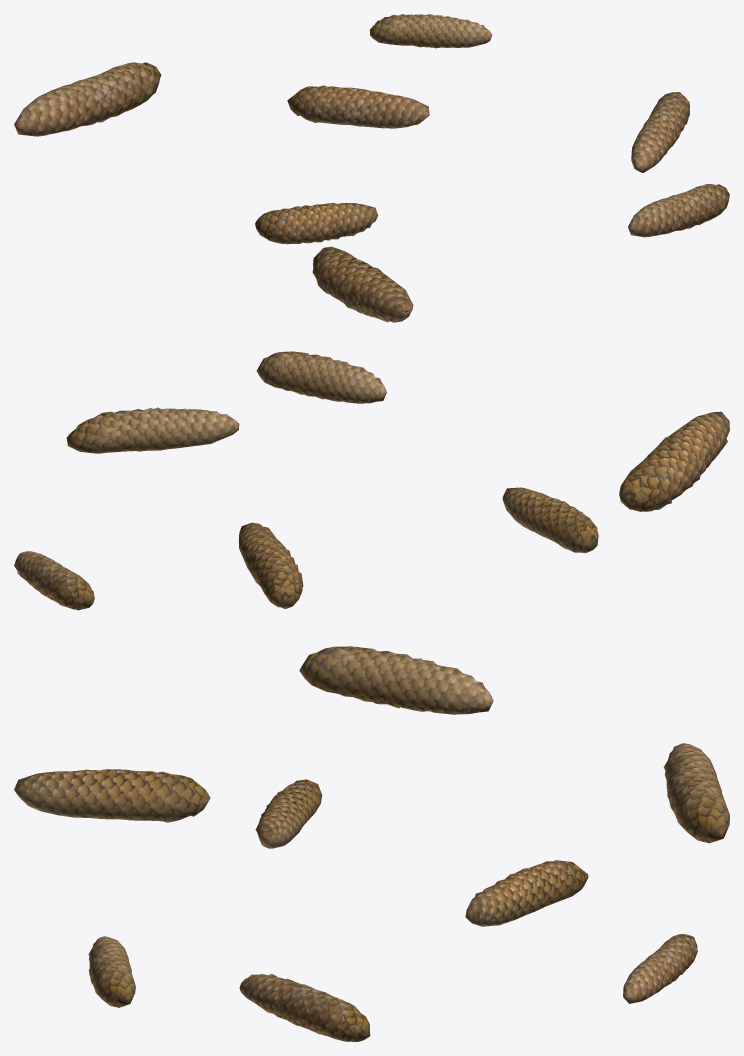
Rendered from PineconeGroup2.fbx.
The picture shows the model from 3 angles, top to bottom: view 1: azimuth 30°, elevation 25°; view 2: azimuth 150°, elevation 25°; view 3: azimuth 270°, elevation 25°; orthographic projection. The views are drawn at different scales.
Parts seen in each view (by area): view 1: PineconeGroup2_LOD0; view 2: PineconeGroup2_LOD0; view 3: PineconeGroup2_LOD0.
Part boxes in pixels (bbox=[...]): PineconeGroup2_LOD0: bbox=[14, 14, 729, 322]; PineconeGroup2_LOD0: bbox=[14, 351, 729, 714]; PineconeGroup2_LOD0: bbox=[14, 743, 729, 1041].
Size of what is drawn, in the model's own units: 69.38 by 5.66 by 73.51.
